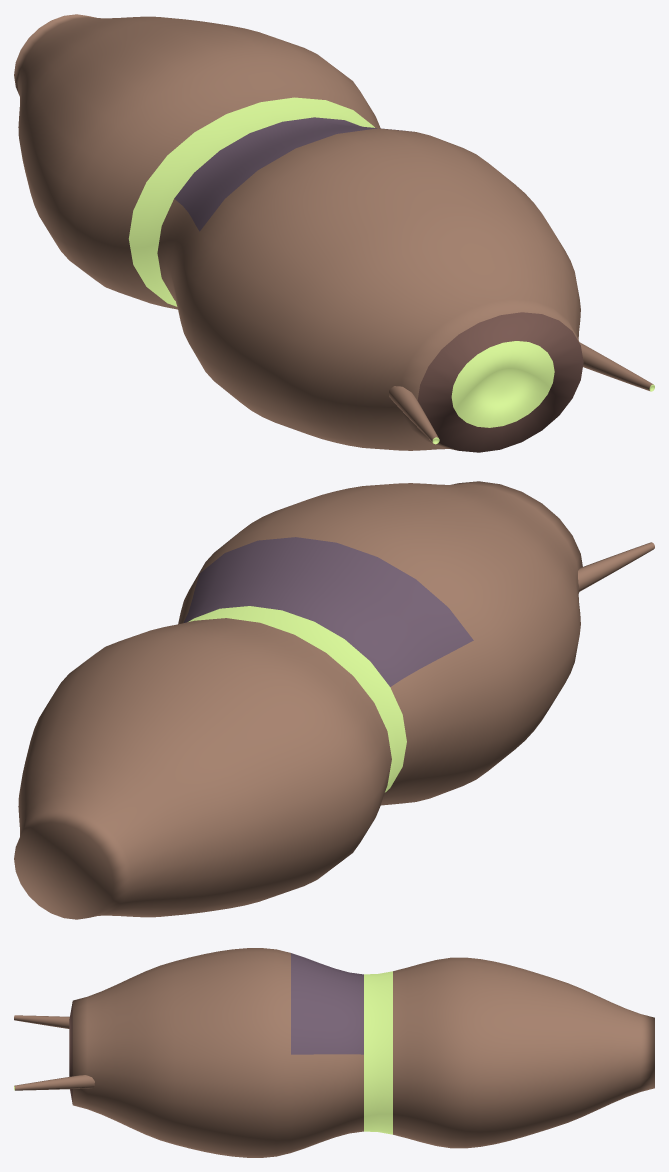
Rendered from vhorr_ff.glb.
3 renders of one model, top to bottom at view 1: azimuth 30°, elevation 25°; view 2: azimuth 150°, elevation 25°; view 3: azimuth 270°, elevation 25°, orthographic. The views are drawn at different scales.
Parts seen in each view (by area): view 1: hull_mesh, limb_0_port_mesh, limb_0_mesh; view 2: hull_mesh, limb_0_mesh; view 3: hull_mesh, limb_0_port_mesh, limb_0_mesh.
Part boxes in pixels (x1,y1,x2,y2): hull_mesh: (14, 14, 583, 452); limb_0_port_mesh: (579, 342, 654, 391); limb_0_mesh: (389, 386, 439, 444); hull_mesh: (14, 481, 582, 919); limb_0_mesh: (578, 542, 654, 591); hull_mesh: (69, 948, 654, 1157); limb_0_port_mesh: (14, 1075, 94, 1090); limb_0_mesh: (14, 1015, 69, 1028).
Size of the model in its own units: 23.04 by 17.71 by 57.25.
